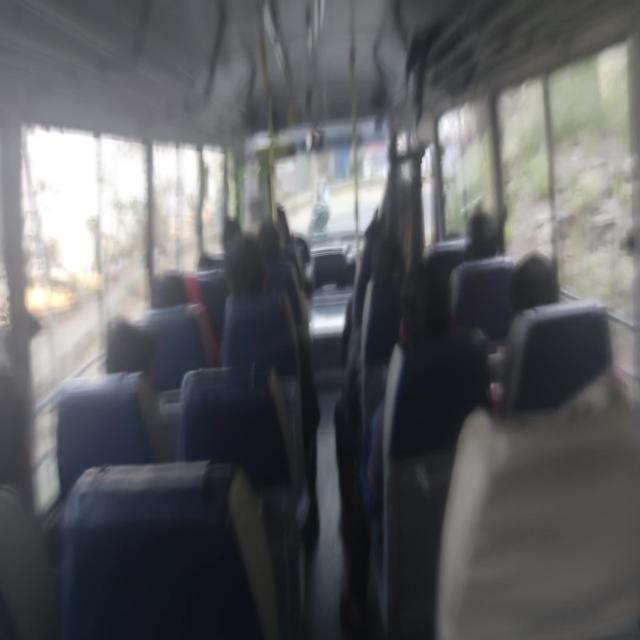person: (0, 321, 41, 503), (394, 253, 450, 344), (115, 258, 187, 326), (95, 317, 144, 377), (516, 253, 560, 315), (456, 215, 502, 272), (379, 242, 422, 298), (229, 240, 264, 288), (360, 217, 394, 263), (211, 211, 246, 239), (182, 249, 212, 279), (258, 218, 276, 256)
